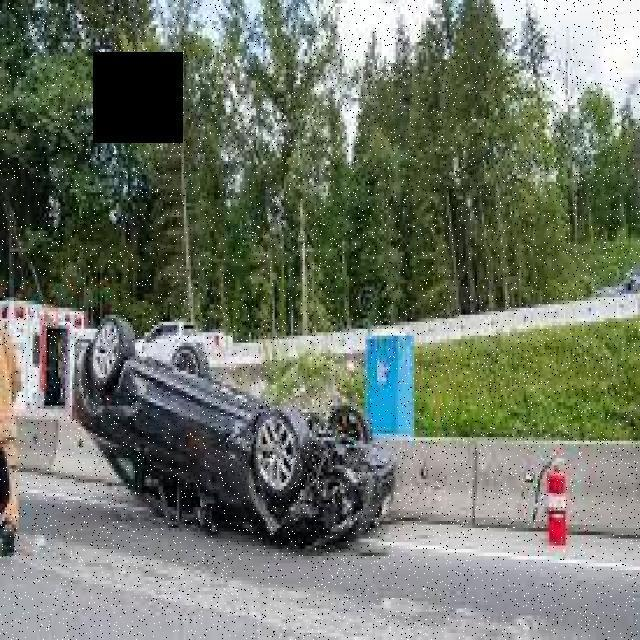accident: (73, 306, 397, 551)
